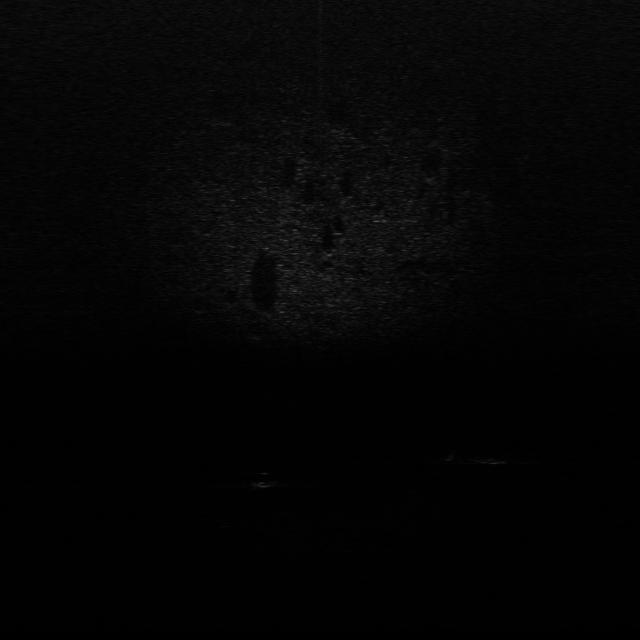ball: (248, 469, 291, 492)
human body: (442, 440, 537, 470)
